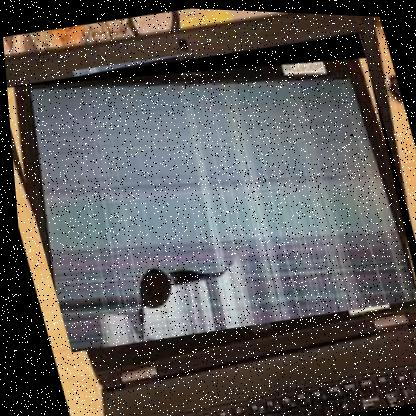crack: (69, 46, 220, 174)
lines: (1, 17, 415, 367)
spot: (136, 106, 213, 157), (91, 100, 147, 162)
